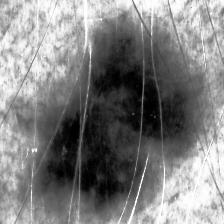Benign Marking or Mole: (26, 29, 204, 213)
